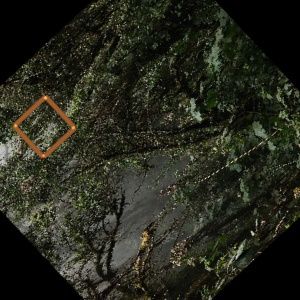square: (11, 93, 77, 159)
